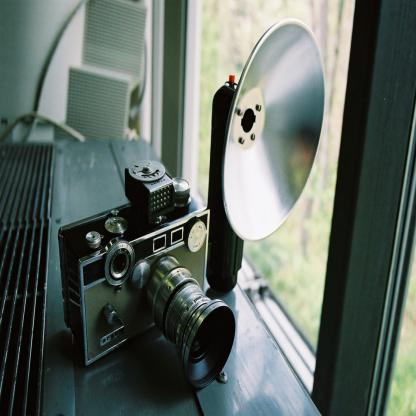Camera: (49, 123, 253, 394)
